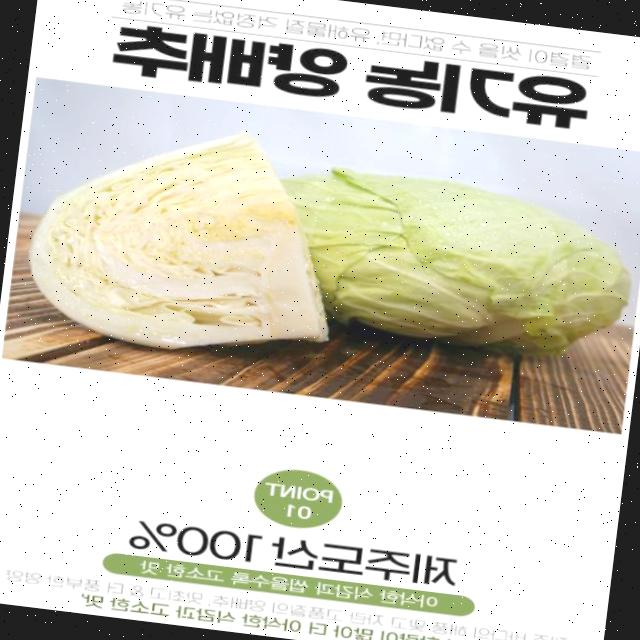cabbage: (13, 103, 348, 371), (258, 153, 640, 368)
